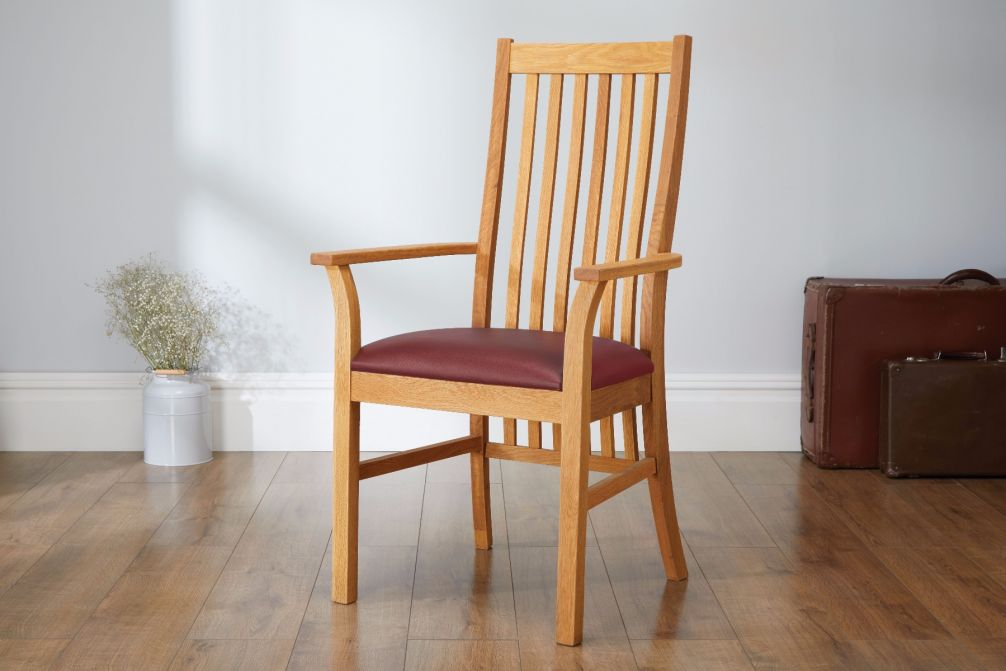chair: (297, 22, 744, 660)
trunk: (775, 230, 1006, 516)
